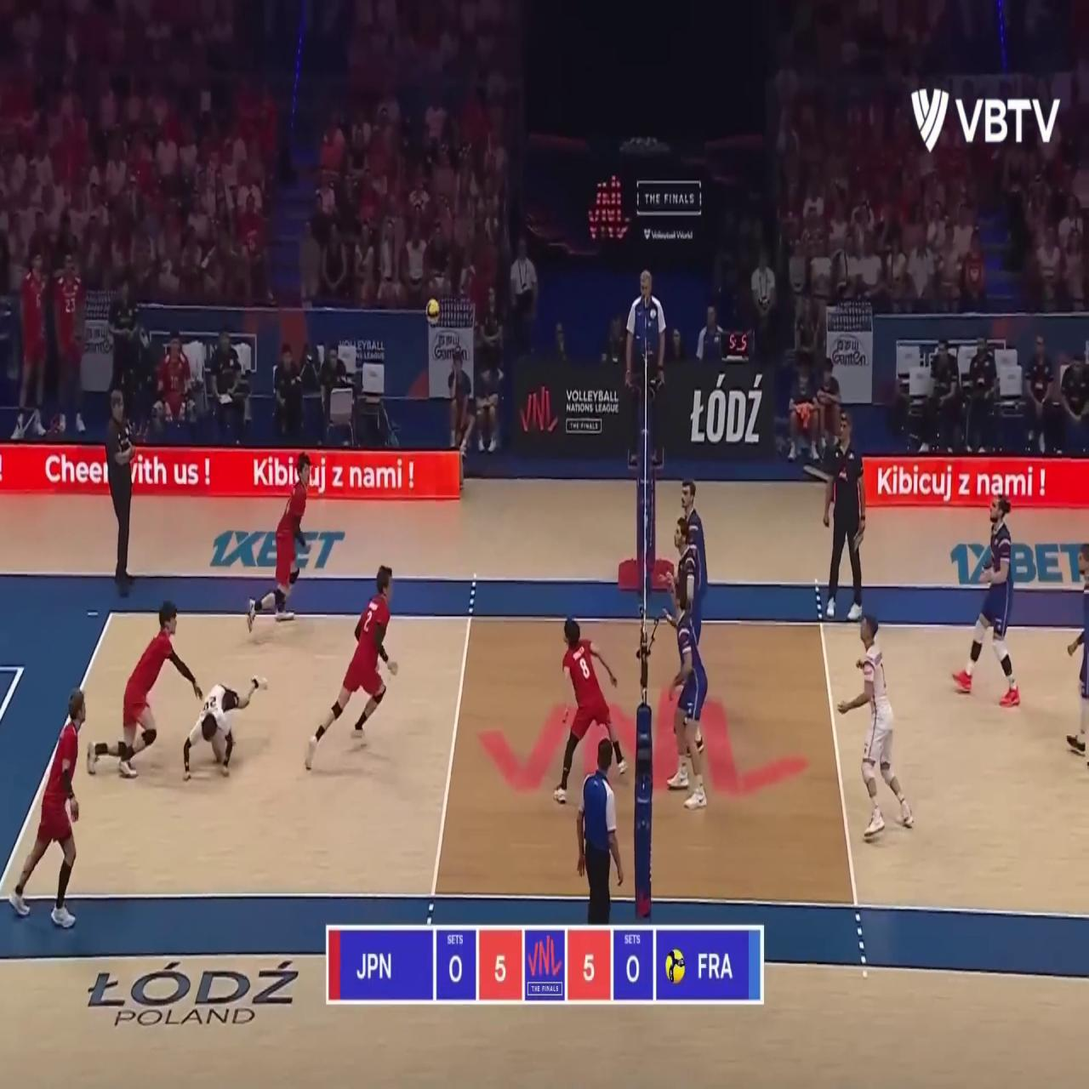ball: (427, 299, 440, 326)
